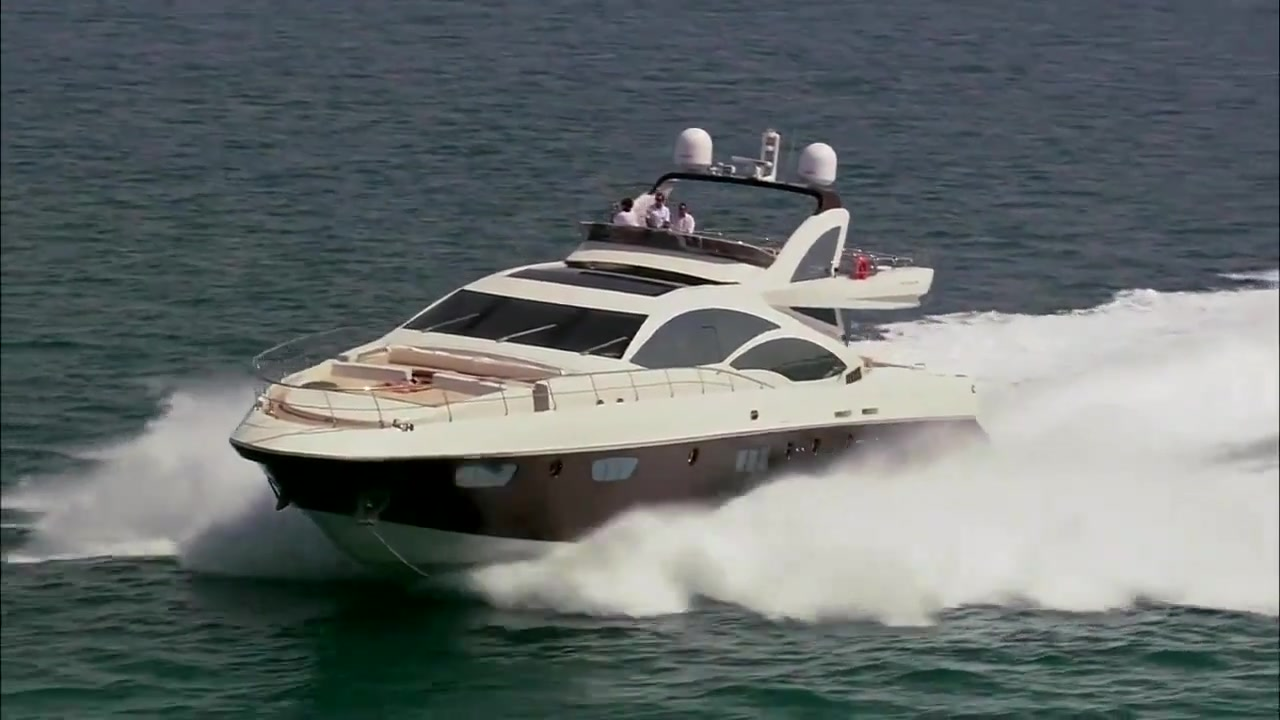boat: (228, 125, 993, 594)
